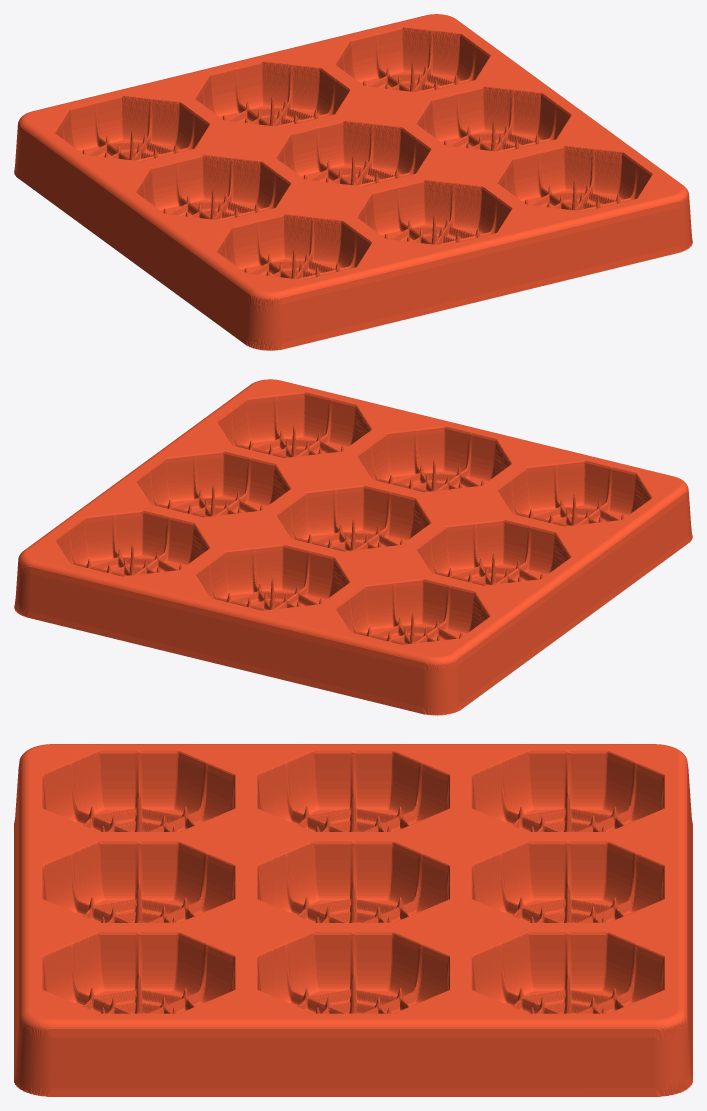
File: mold.glb
3 renders of one model, top to bottom at view 1: azimuth 30°, elevation 25°; view 2: azimuth 150°, elevation 25°; view 3: azimuth 270°, elevation 25°, orthographic. The views are drawn at different scales.
Parts seen in each view (by area): view 1: geometry_0; view 2: geometry_0; view 3: geometry_0.
Part boxes in pixels (x1,y1,x2,y2): geometry_0: (14, 14, 692, 350); geometry_0: (14, 379, 692, 715); geometry_0: (14, 744, 692, 1096).
Size of the model in its own units: 0.1595 by 0.0185 by 0.1595.
